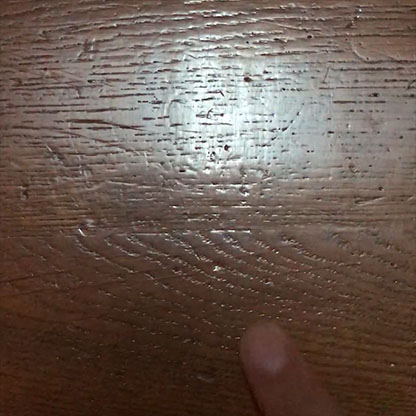fingertip: (231, 316, 308, 386)
